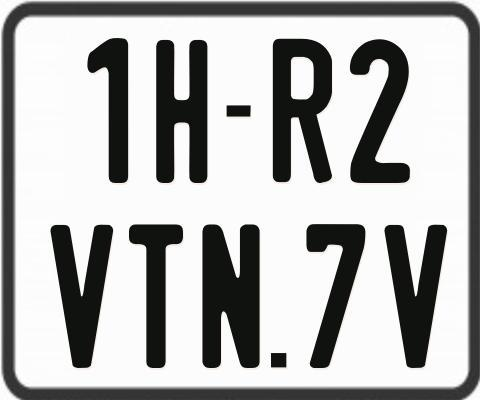1: (84, 36, 126, 185)
2: (348, 39, 414, 187)
7: (303, 224, 366, 369)
H: (153, 38, 206, 184)
N: (199, 224, 257, 369)
R: (270, 39, 333, 187)
T: (129, 222, 188, 371)
V: (383, 222, 449, 370), (51, 224, 116, 368)
